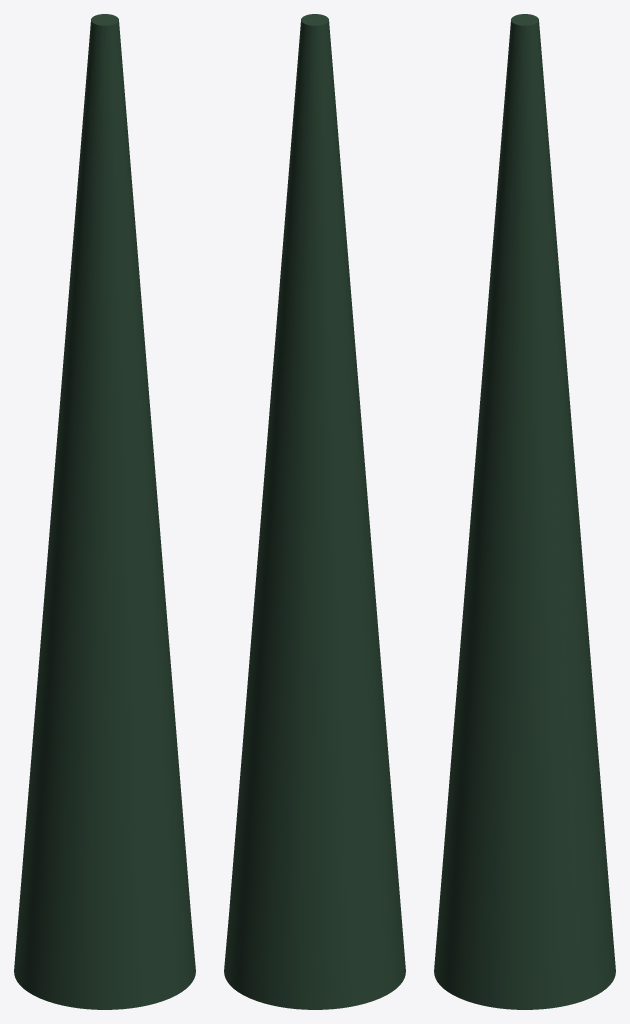
File: e10-italian-cypress.glb
3 renders of one model, left to right at view 1: azimuth 30°, elevation 25°; view 2: azimuth 150°, elevation 25°; view 3: azimuth 270°, elevation 25°, orthographic.
Visible parts, largest first — view 1: part0; view 2: part0; view 3: part0.
Boxes of the visible parts, box(x1,y1,x2,y2) form: part0: box(14, 14, 195, 1009); part0: box(224, 14, 405, 1009); part0: box(434, 14, 615, 1009).
Size of the model in its own units: 2598 by 15000 by 2598.
